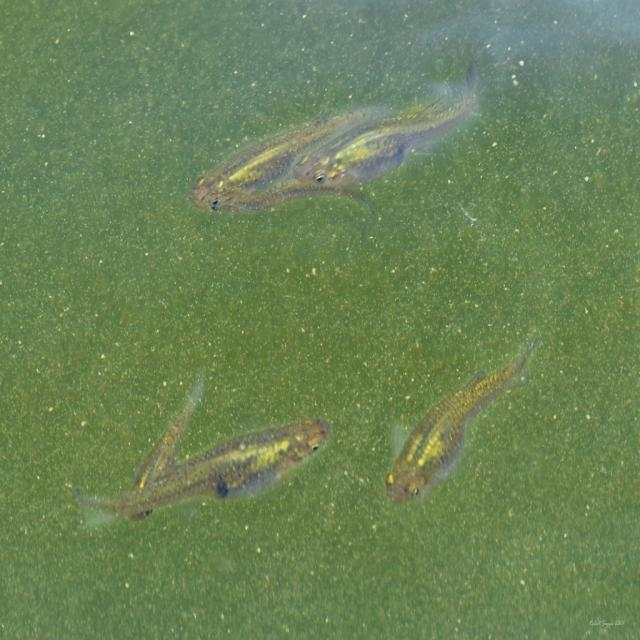Sivrisinek Baligi: (182, 73, 478, 217), (71, 411, 328, 528), (383, 340, 540, 513)
